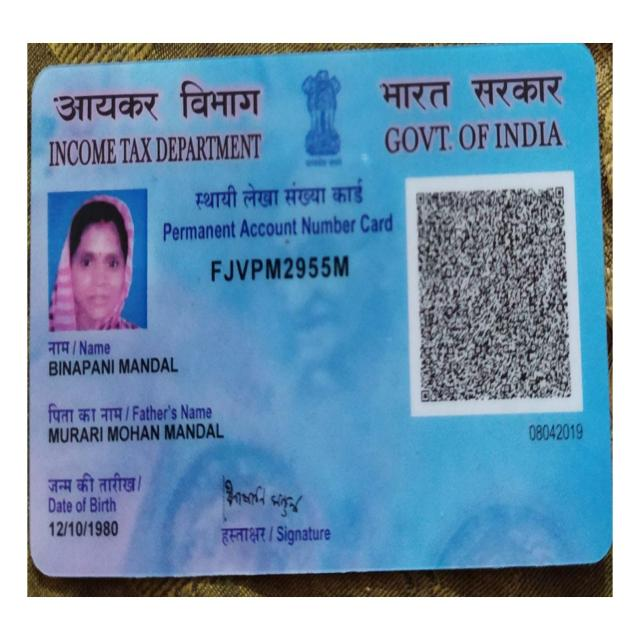pan_card: (35, 68, 597, 554)
